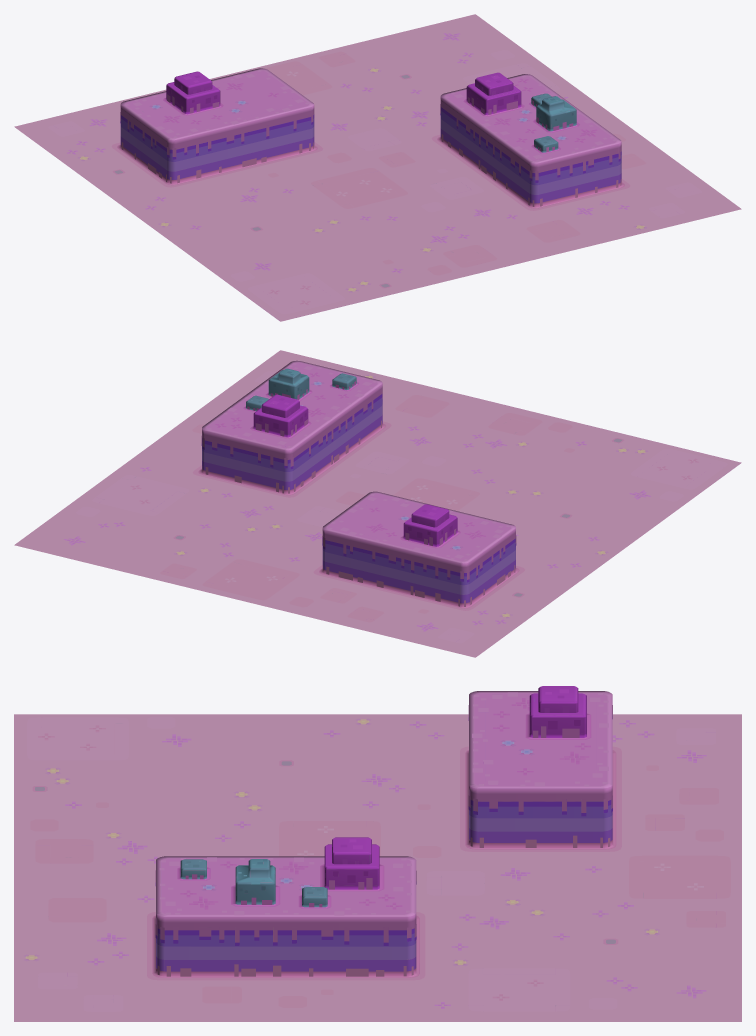
File: C_forest2_04.fbx
3 renders of one model, top to bottom at view 1: azimuth 30°, elevation 25°; view 2: azimuth 150°, elevation 25°; view 3: azimuth 270°, elevation 25°, orthographic. The views are drawn at different scales.
Parts seen in each view (by area): view 1: C_forest2_04.001; view 2: C_forest2_04.001; view 3: C_forest2_04.001.
Part boxes in pixels (x1=…): C_forest2_04.001: x1=14, y1=14, x2=741, y2=321; C_forest2_04.001: x1=14, y1=350, x2=741, y2=657; C_forest2_04.001: x1=14, y1=686, x2=741, y2=1021.
Size of the model in its own units: 50 by 7.23 by 50.
Materials: 1 (1 with a texture image).
